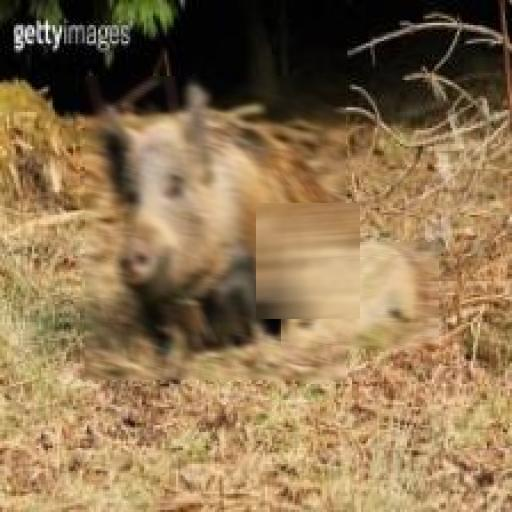Pig: (85, 76, 346, 380), (281, 242, 439, 349), (256, 203, 360, 319)
